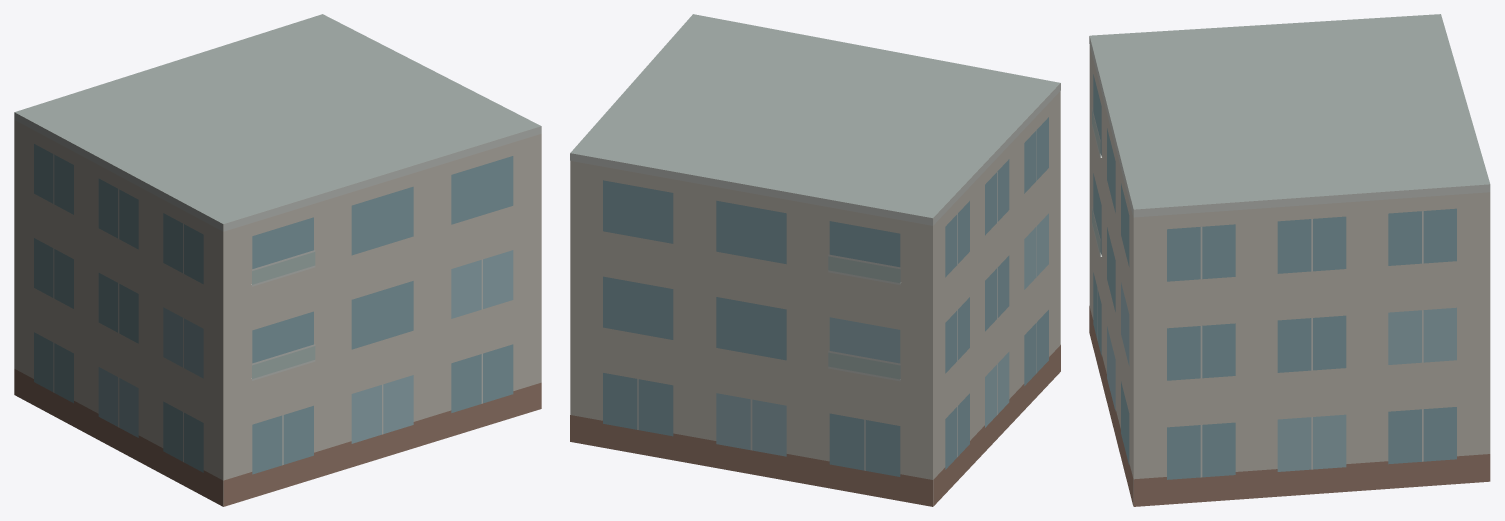
File: survey-upis-32651761.glb
3 renders of one model, left to right at view 1: azimuth 30°, elevation 25°; view 2: azimuth 150°, elevation 25°; view 3: azimuth 270°, elevation 25°, orthographic. The views are drawn at different scales.
Parts seen in each view (by area): view 1: survey-upis-32651761.tmp; view 2: survey-upis-32651761.tmp; view 3: survey-upis-32651761.tmp.
Boxes of the visible parts, box(x1,y1,x2,y2) form: survey-upis-32651761.tmp: box(14, 14, 541, 506); survey-upis-32651761.tmp: box(570, 14, 1060, 506); survey-upis-32651761.tmp: box(1089, 14, 1490, 506).
Size of the model in its own units: 12.92 by 9.15 by 11.19.
